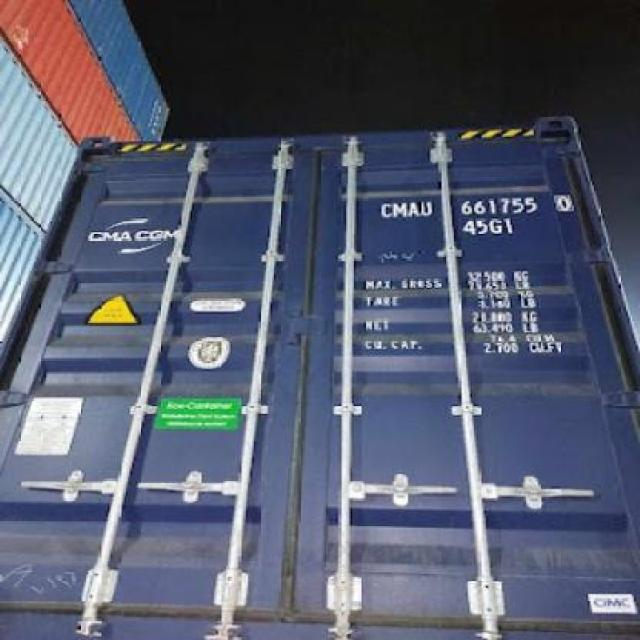ISO: (462, 217, 515, 237)
container_number: (382, 191, 576, 216)
